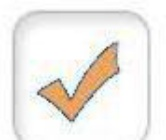CheckBox: (1, 1, 165, 139)
